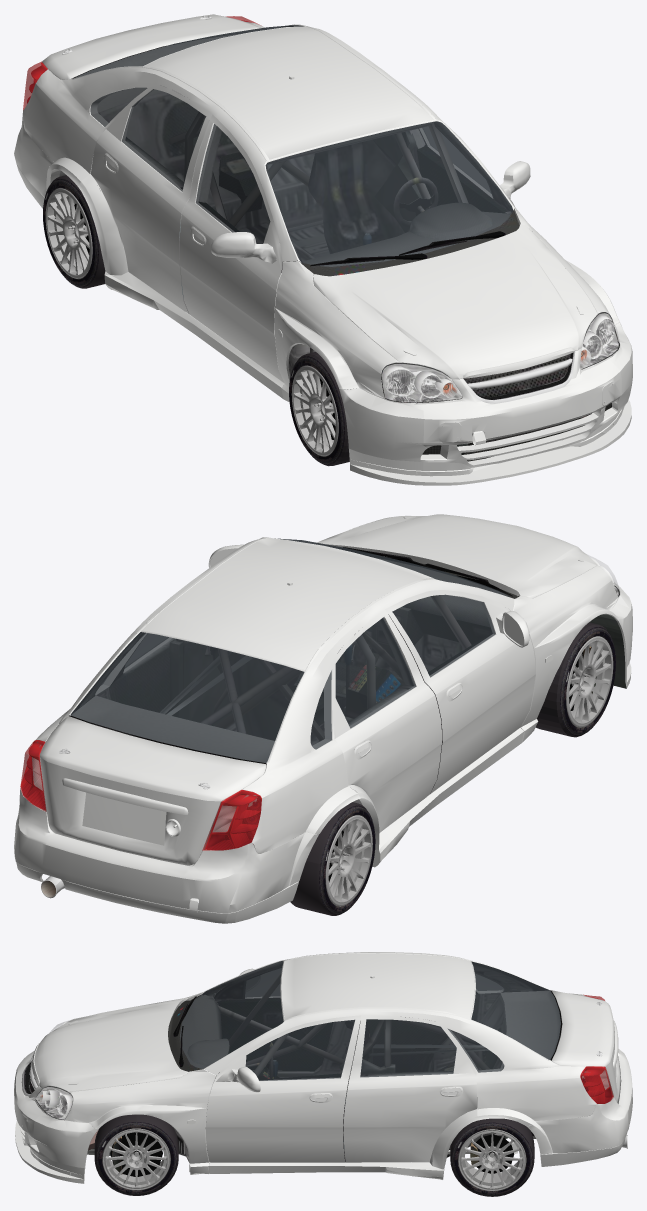
File: gentra.glb
3 views of the same model, one above another, from view 1: azimuth 30°, elevation 25°; view 2: azimuth 150°, elevation 25°; view 3: azimuth 270°, elevation 25° (orthographic). The views are drawn at different scales.
Parts seen in each view (by area): view 1: paint, glass, interior, shell, wheel_0, wheel_2, head, chrome; view 2: paint, glass, interior, shell, wheel_2, wheel_0, tail, indicatorRight; view 3: paint, glass, interior, wheel_1, wheel_3, shell, head, tail.
Part boxes in pixels (left/top/right/bottom): paint: left=14, top=14, right=632, bottom=485; glass: left=23, top=16, right=619, bottom=402; interior: left=99, top=25, right=512, bottom=313; shell: left=46, top=33, right=617, bottom=461; wheel_0: left=289, top=352, right=349, bottom=466; wheel_2: left=43, top=175, right=105, bottom=288; head: left=381, top=312, right=619, bottom=403; chrome: left=61, top=16, right=575, bottom=403; paint: left=14, top=514, right=632, bottom=923; glass: left=20, top=515, right=619, bottom=850; interior: left=71, top=558, right=508, bottom=793; shell: left=37, top=547, right=626, bottom=897; wheel_2: left=290, top=802, right=375, bottom=915; wheel_0: left=535, top=622, right=616, bottom=737; tail: left=20, top=740, right=261, bottom=850; indicatorRight: left=206, top=790, right=261, bottom=848; paint: left=14, top=952, right=632, bottom=1183; glass: left=36, top=961, right=613, bottom=1119; interior: left=180, top=961, right=549, bottom=1161; wheel_1: left=94, top=1114, right=178, bottom=1195; wheel_3: left=450, top=1118, right=534, bottom=1196; shell: left=23, top=990, right=612, bottom=1162; head: left=35, top=1022, right=72, bottom=1119; tail: left=580, top=997, right=612, bottom=1103.
Size of the model in its own units: 1.95 by 1.38 by 4.48.
11 materials, 8 textured.
